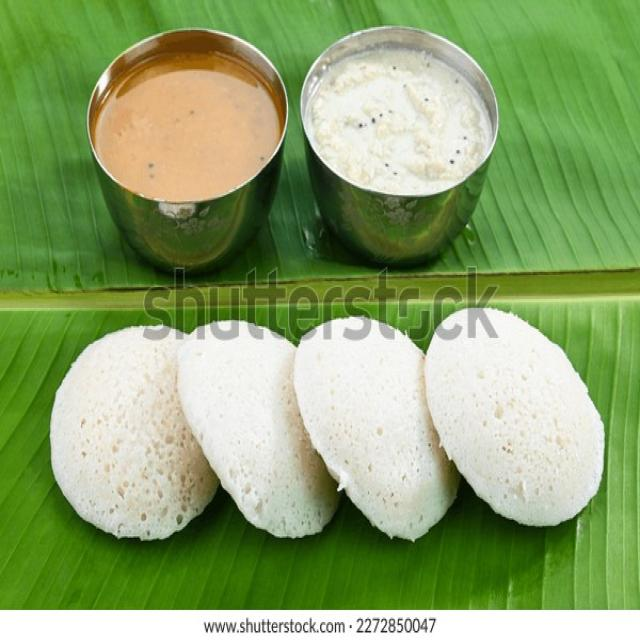IDLI: (426, 310, 603, 530), (50, 316, 217, 539), (292, 313, 455, 534), (182, 313, 332, 533)
